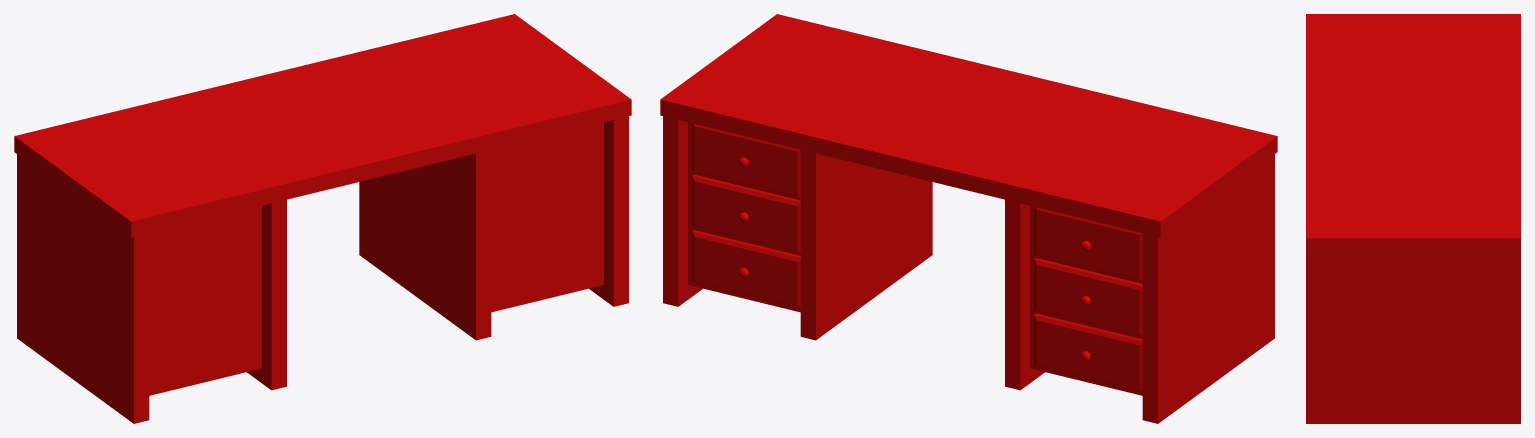
Rendered from Attic_Desk_01_LP.glb.
3 renders of one model, left to right at view 1: azimuth 30°, elevation 25°; view 2: azimuth 150°, elevation 25°; view 3: azimuth 270°, elevation 25°, orthographic. The views are drawn at different scales.
Parts seen in each view (by area): view 1: Attic_Desk_01_LP; view 2: Attic_Desk_01_LP; view 3: Attic_Desk_01_LP.
Boxes of the visible parts, x1,y1,x2,y2 form: Attic_Desk_01_LP: (14,14,631,423); Attic_Desk_01_LP: (660,14,1277,423); Attic_Desk_01_LP: (1306,14,1520,423).
Size of the model in its own units: 2.2 by 0.852 by 0.8882.
